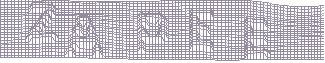A: (65, 12, 104, 58)
E: (187, 8, 216, 53), (242, 15, 270, 60)
P: (135, 11, 169, 57)
Z: (25, 1, 61, 46)
